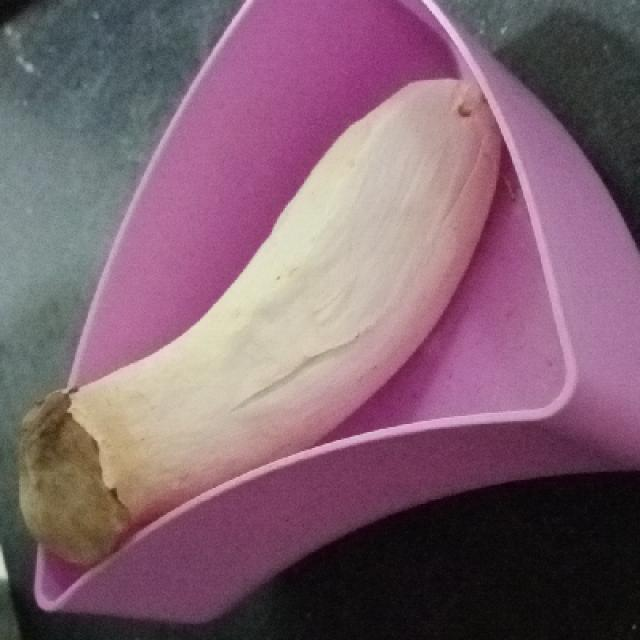Pleurotus eryngii: (16, 76, 499, 568)
